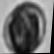correct: (0, 0, 50, 54)
